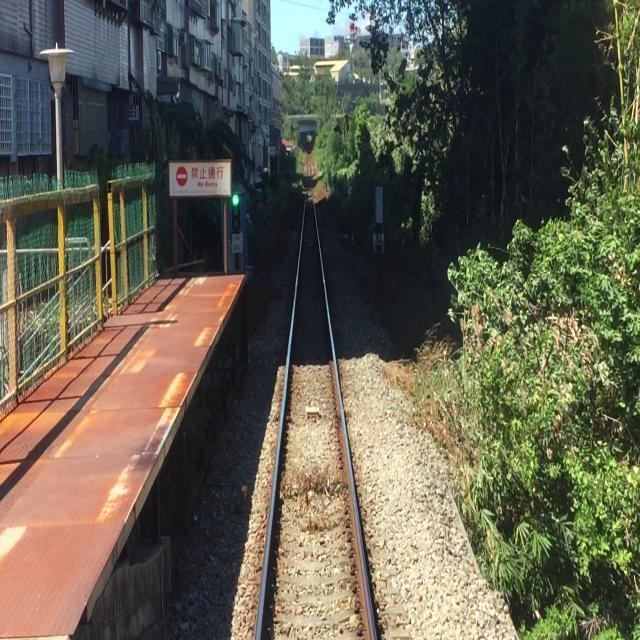track: (248, 167, 387, 640)
